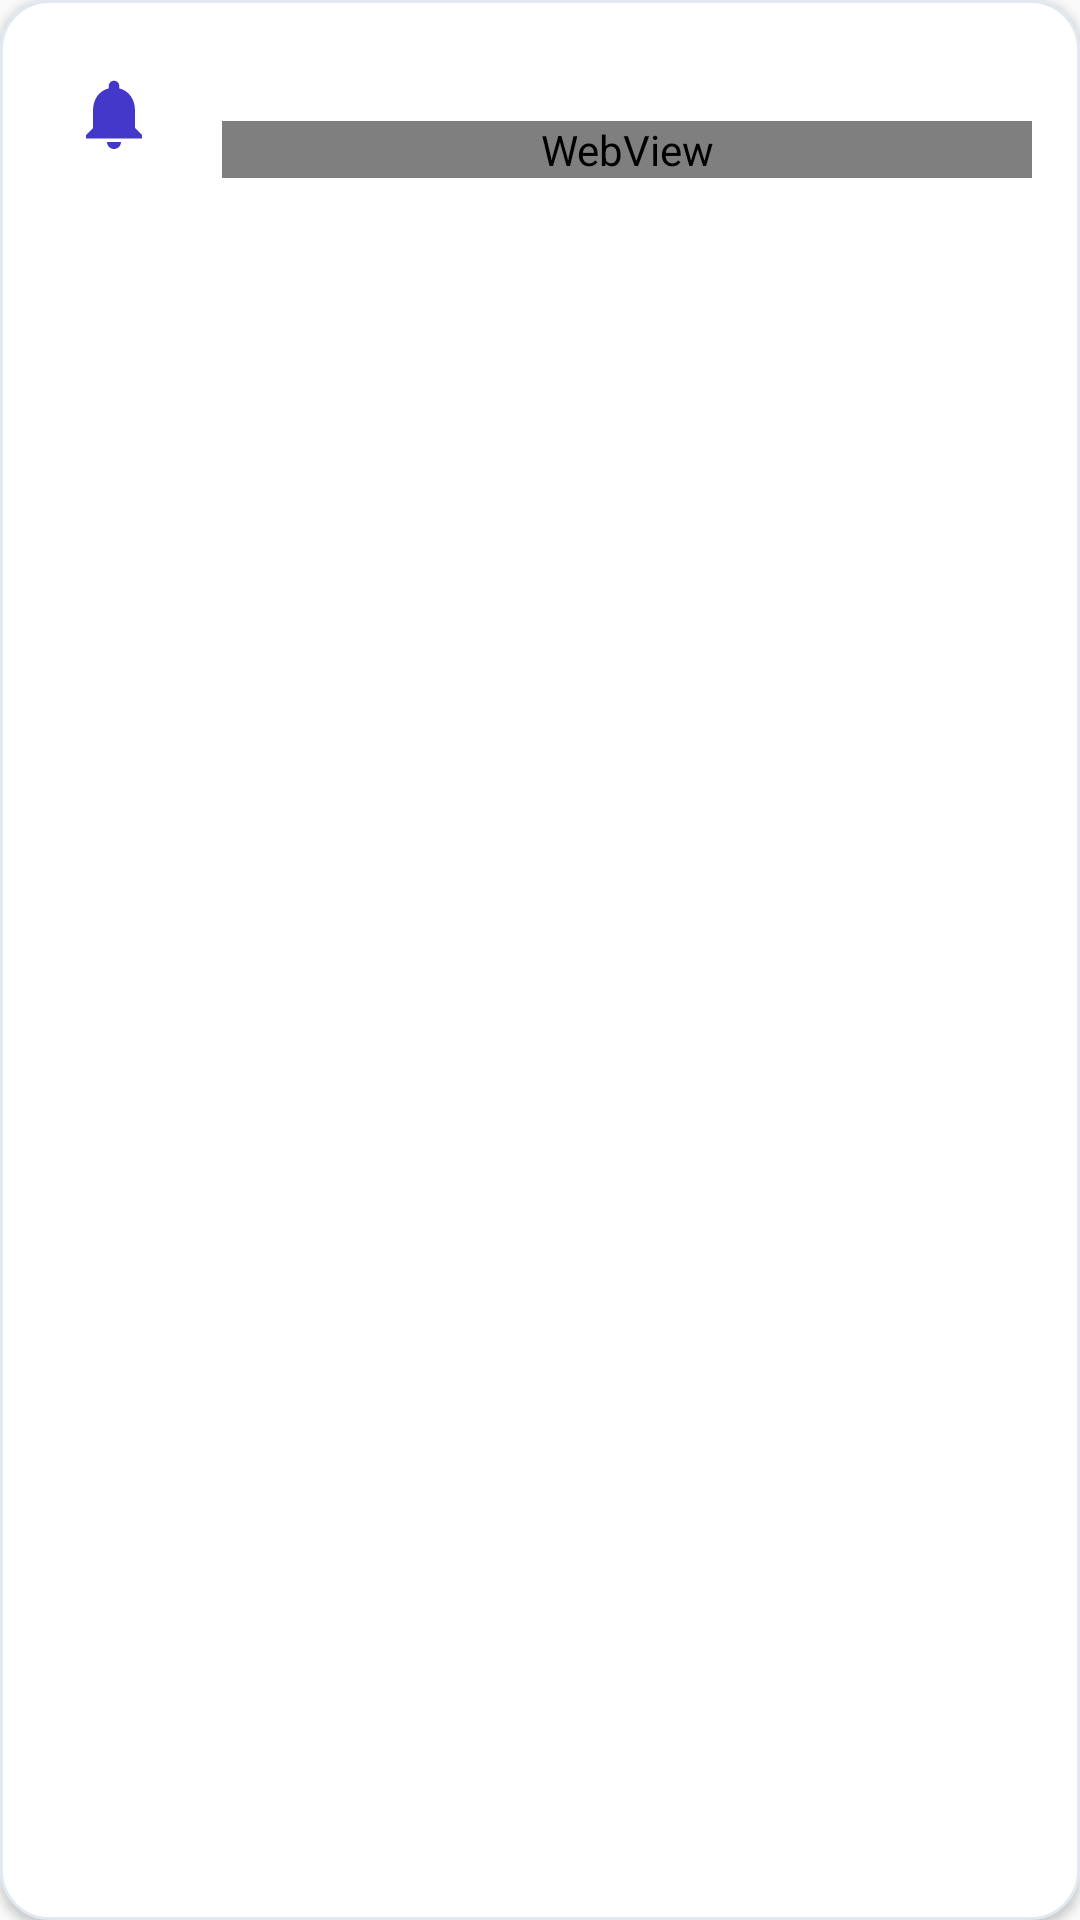

Named icons in this screenshot (1080px x 1920px) and their bounding boxes, (x1, y1, x2, y2):
notifications modern: (86, 80, 142, 149)
